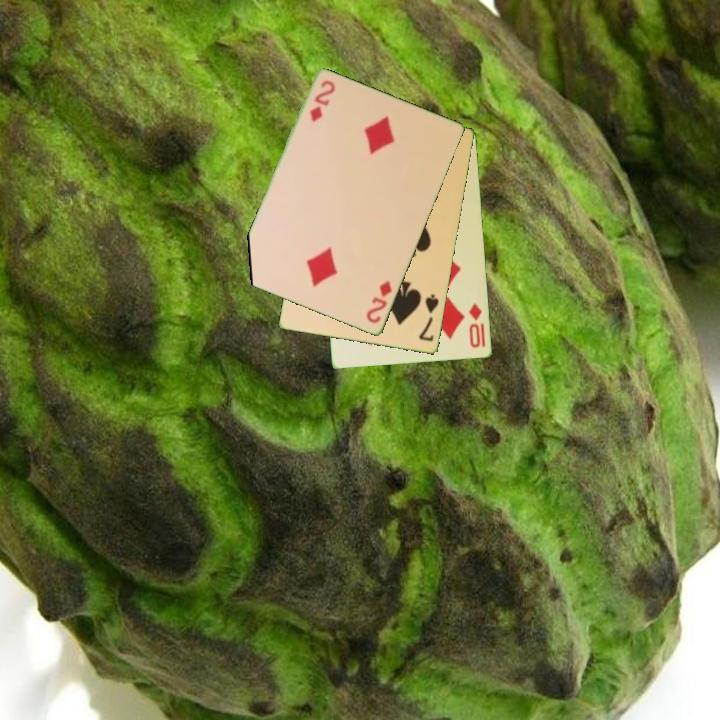10d: (466, 300, 485, 351)
2d: (363, 277, 395, 327), (306, 77, 337, 126)
7s: (415, 291, 442, 345)
